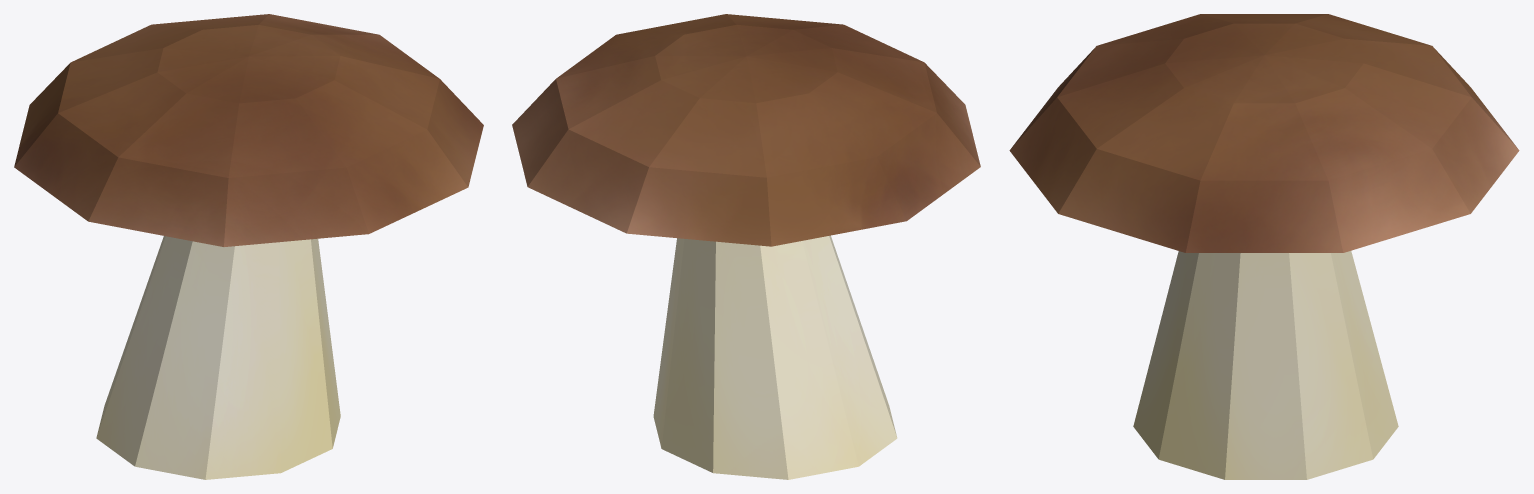
Rendered from mushroom.obj.
3 views of the same model, side by side, from view 1: azimuth 30°, elevation 25°; view 2: azimuth 150°, elevation 25°; view 3: azimuth 270°, elevation 25° (orthographic). The views are drawn at different scales.
Visible parts, largest first — view 1: Cylinder; view 2: Cylinder; view 3: Cylinder.
Part boxes in pixels (bbox=[...]): Cylinder: bbox=[14, 14, 483, 479]; Cylinder: bbox=[512, 14, 980, 479]; Cylinder: bbox=[1009, 14, 1519, 479].
Size of the model in its own units: 2.34 by 2.06 by 2.46.
Materials: 1 (1 with a texture image).
